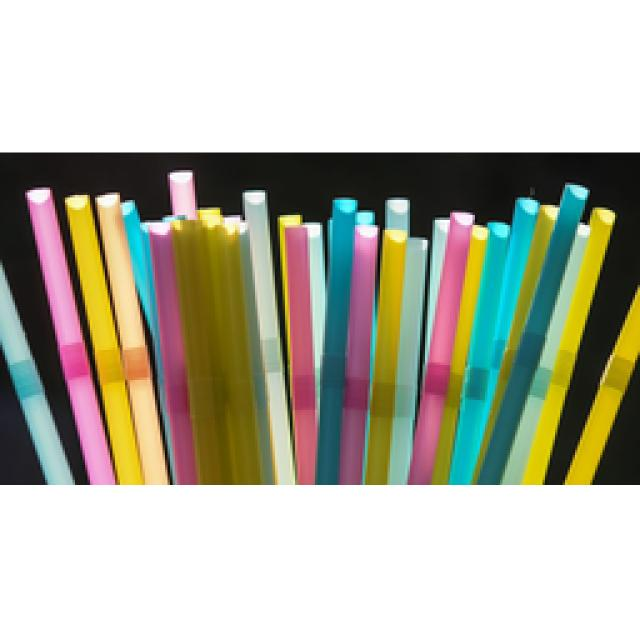plastic: (28, 185, 612, 482), (0, 268, 70, 482), (565, 290, 638, 480), (168, 170, 192, 218)
